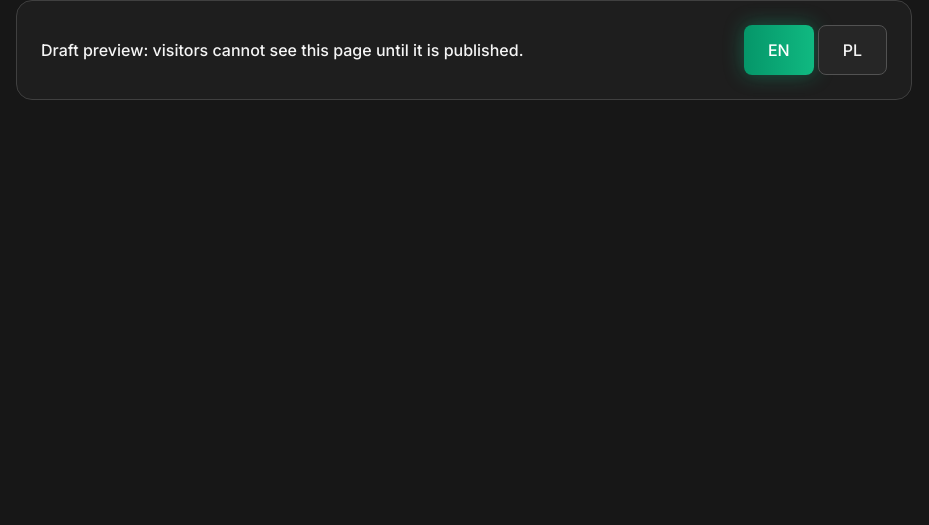
Scenario: AdminPostPreview › switches the previewed language and shows only that language fields
Click the button "PL": (852, 50) [818, 25, 887, 75]
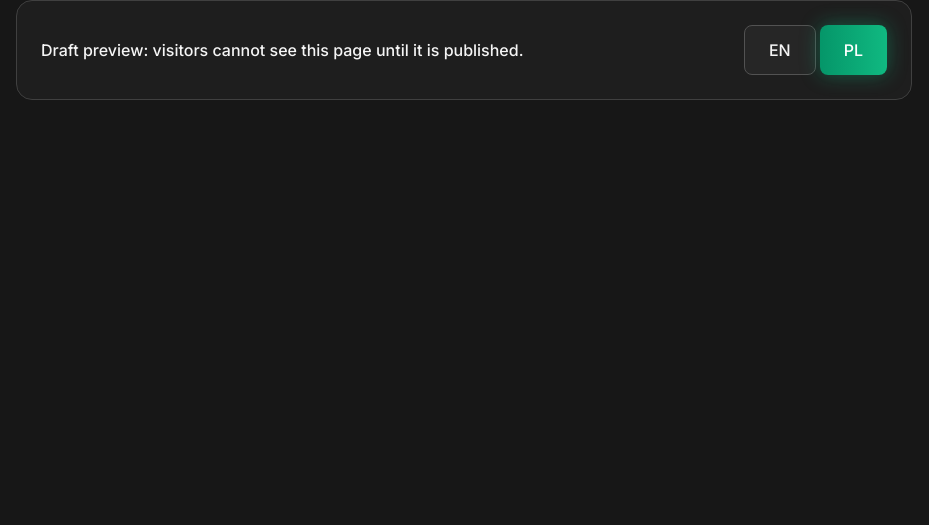
Check: the text "English draft title" is not shown
Check: the text "English excerpt" is not shown
Click the button "EN": (780, 50) [744, 25, 816, 75]
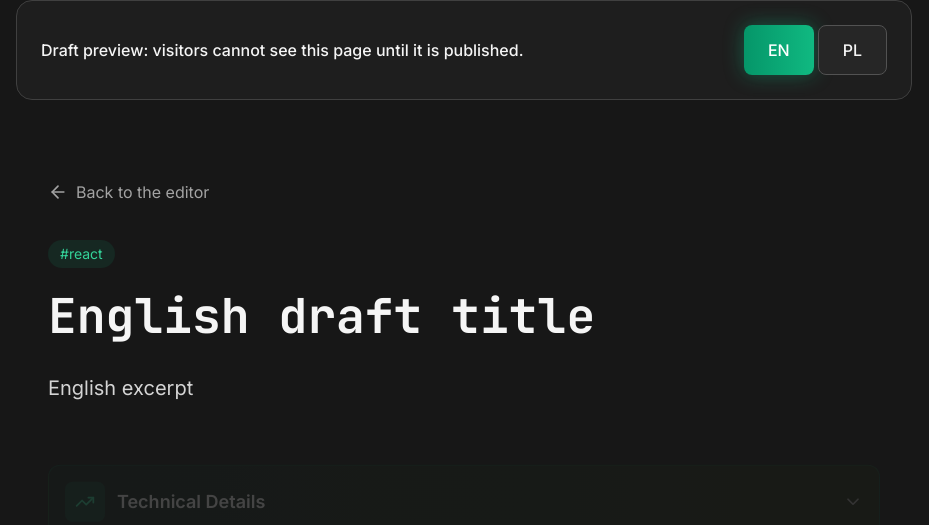
Check: the heading "English draft title" is shown, box [48, 284, 595, 347]
